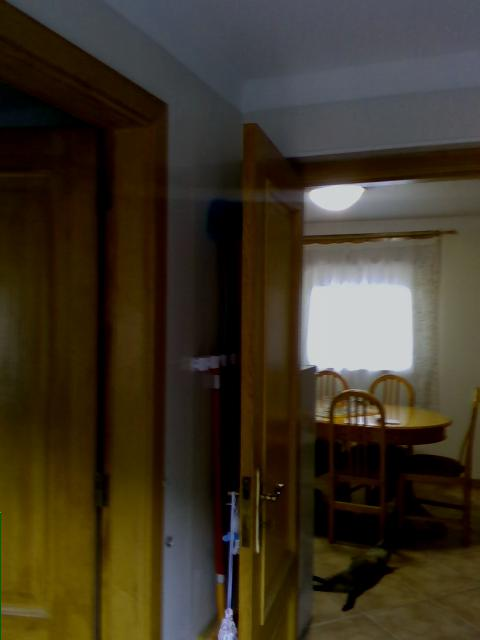open_door: (277, 141, 479, 639)
